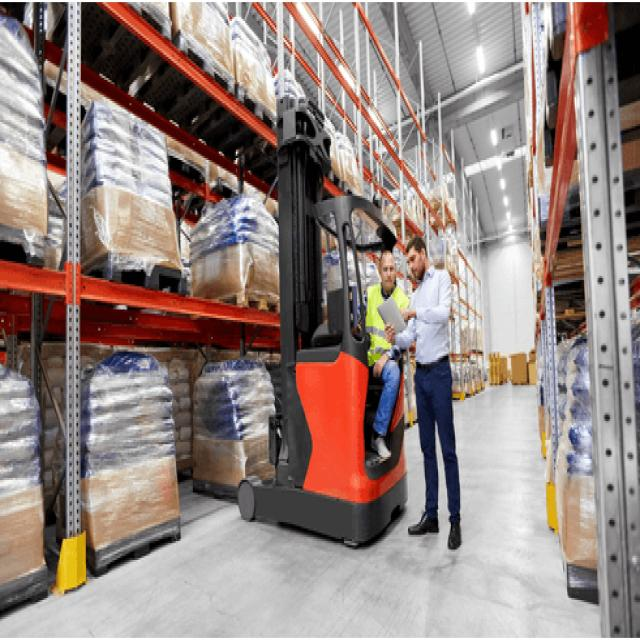vest: (364, 277, 413, 374)
